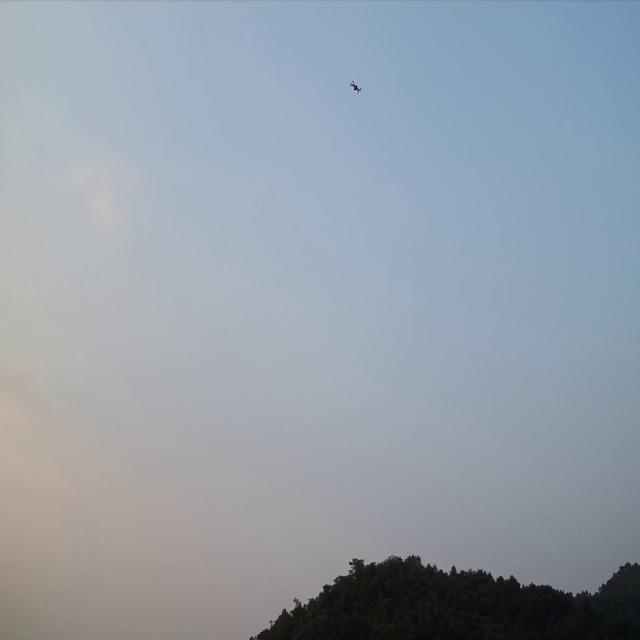UAV: (348, 79, 362, 95)
